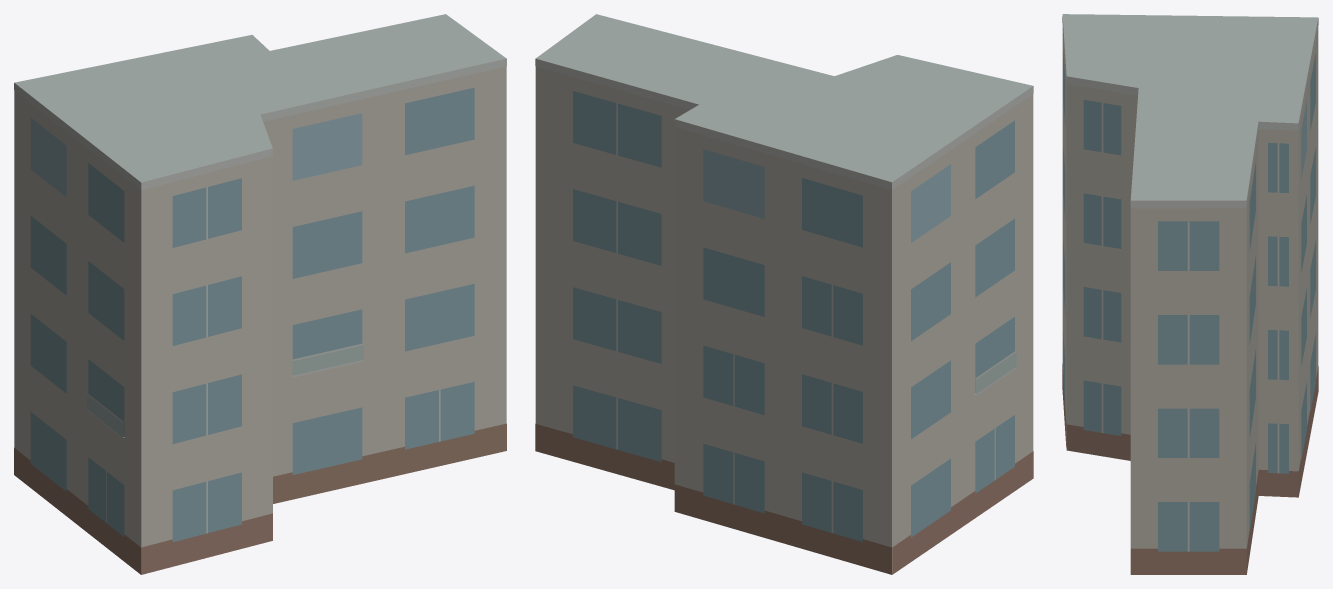
Rendered from survey-upis-32471865.glb.
3 renders of one model, left to right at view 1: azimuth 30°, elevation 25°; view 2: azimuth 150°, elevation 25°; view 3: azimuth 270°, elevation 25°, orthographic. The views are drawn at different scales.
Visible parts, largest first — view 1: survey-upis-32471865.tmp; view 2: survey-upis-32471865.tmp; view 3: survey-upis-32471865.tmp.
Part boxes in pixels (x1,y1,x2,y2): survey-upis-32471865.tmp: (14, 14, 506, 574); survey-upis-32471865.tmp: (535, 14, 1033, 574); survey-upis-32471865.tmp: (1062, 14, 1318, 574).
Size of the model in its own units: 13.18 by 12.3 by 7.63.
